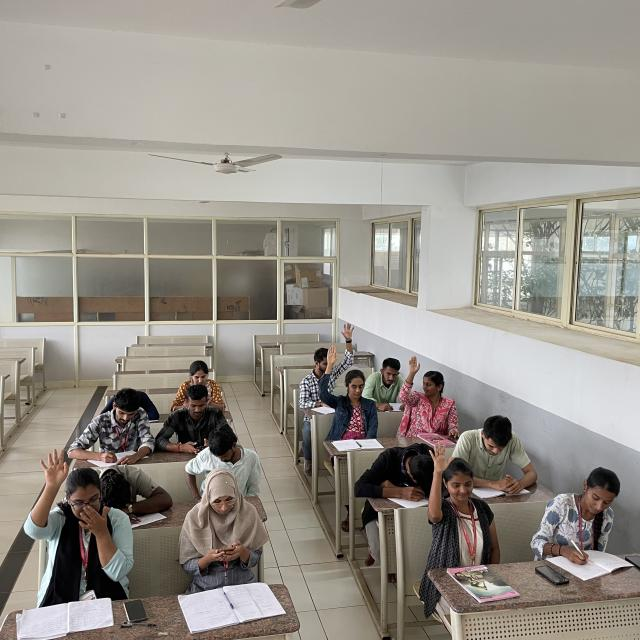Hand Rising: (23, 450, 125, 586), (424, 439, 498, 561), (317, 349, 379, 439), (403, 356, 463, 436), (300, 323, 360, 401)
Reading: (452, 410, 540, 497)
Sleeping: (362, 440, 440, 510), (99, 461, 174, 523)
Using Phone: (178, 465, 271, 580), (156, 383, 234, 453)
Writing: (537, 462, 640, 573), (93, 389, 158, 469)
